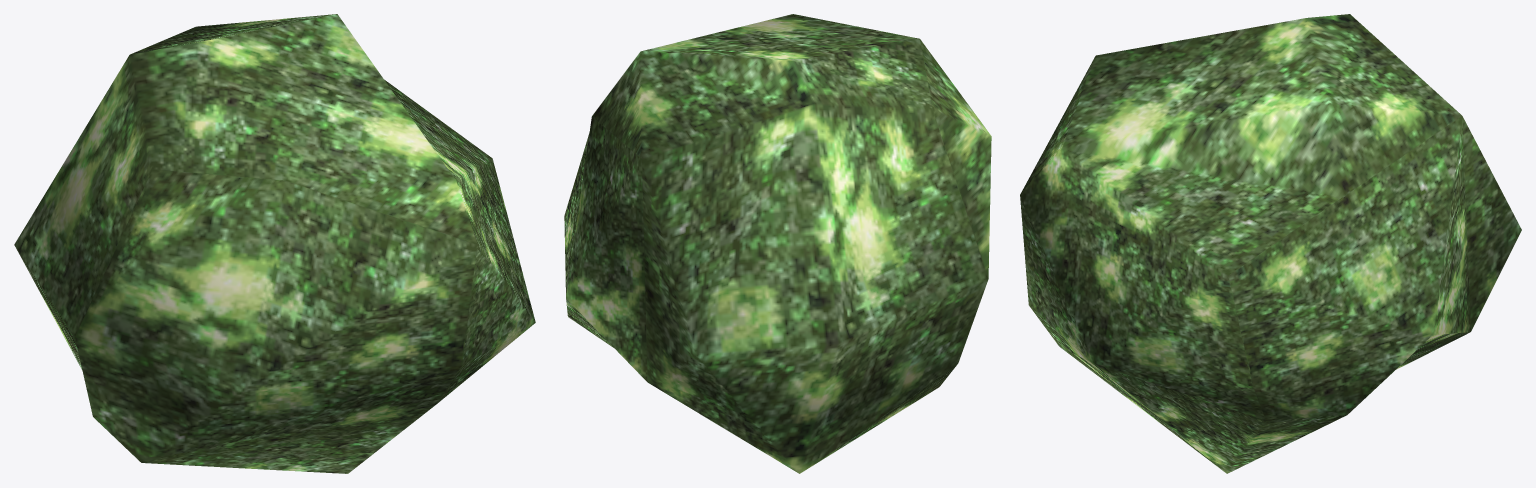
File: asteroid_acid_radial_s01_l2.fbx
3 views of the same model, side by side, from view 1: azimuth 30°, elevation 25°; view 2: azimuth 150°, elevation 25°; view 3: azimuth 270°, elevation 25° (orthographic). The views are drawn at different scales.
Parts seen in each view (by area): view 1: mesh_node; view 2: mesh_node; view 3: mesh_node.
Part boxes in pixels (<box>): mesh_node: <box>14,14,535,473</box>; mesh_node: <box>564,14,991,473</box>; mesh_node: <box>1020,14,1521,473</box>.
Bounding box in the file's own units: 5.25 × 4.88 × 5.47.
Materials: 1 (1 with a texture image).
